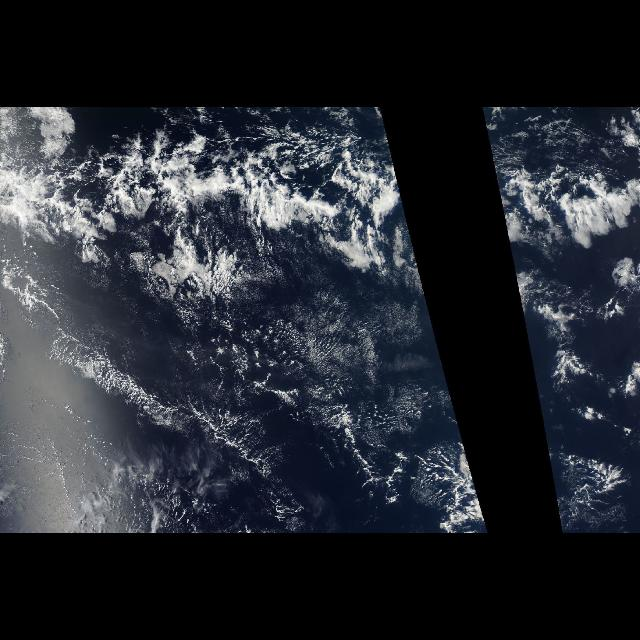Sugar: (54, 303, 452, 515)
